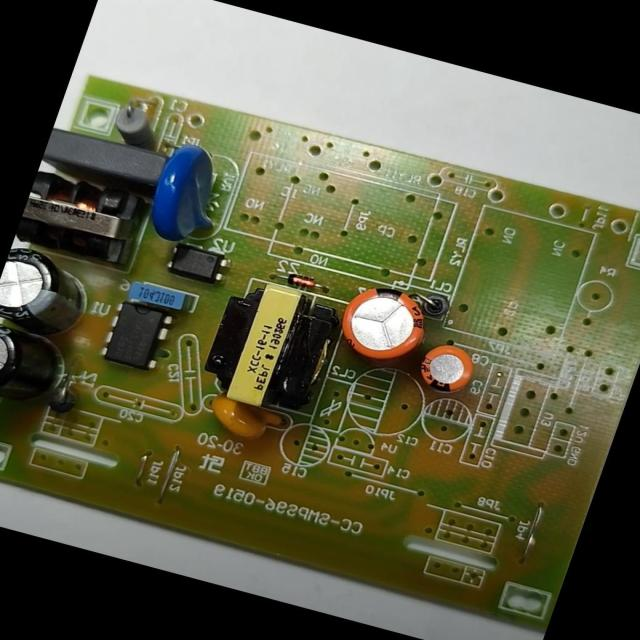Cap1: (329, 272, 440, 368)
Cap2: (412, 338, 483, 398)
Cap3: (0, 243, 97, 338)
Cap4: (0, 317, 71, 411)
MOSFET: (94, 295, 180, 375)
Mov: (140, 136, 238, 250)
Resistor: (105, 98, 169, 151)
Transformer: (191, 266, 349, 421), (15, 158, 158, 266)
